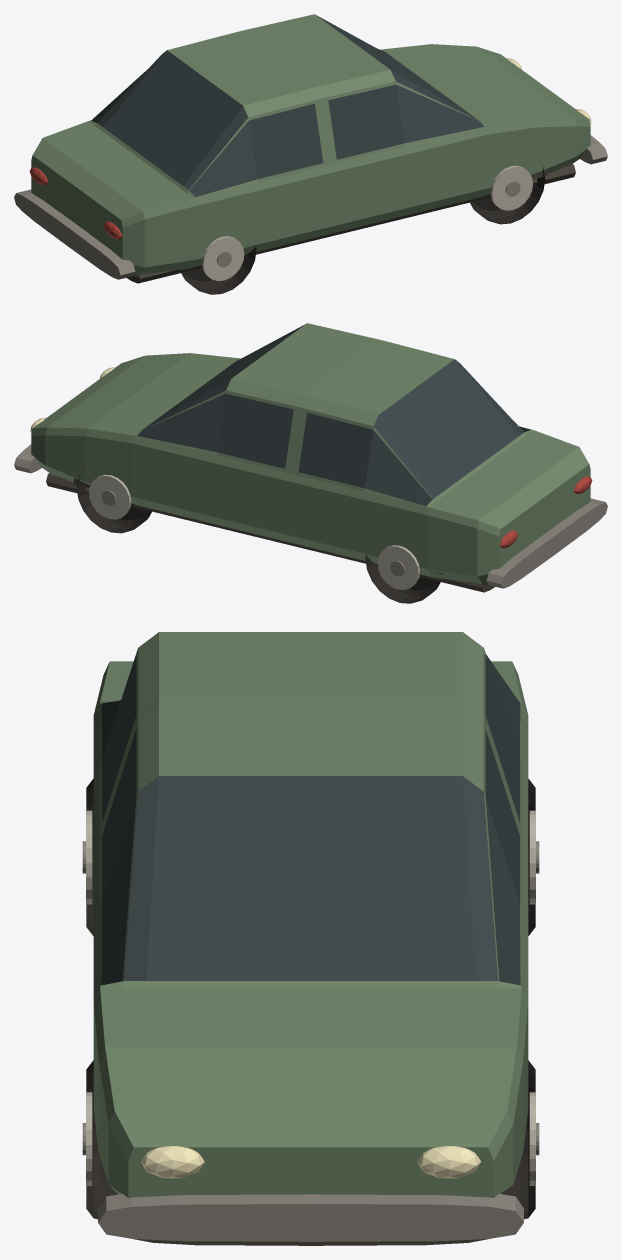
Rendered from sedan-zeytin.glb.
3 views of the same model, one above another, from view 1: azimuth 30°, elevation 25°; view 2: azimuth 150°, elevation 25°; view 3: azimuth 270°, elevation 25° (orthographic). The views are drawn at different scales.
Parts seen in each view (by area): view 1: a_zeytin, cam, tampon, jant, lastik, ic, stop; view 2: a_zeytin, cam, tampon, jant, lastik, ic, stop; view 3: a_zeytin, cam, tampon, lastik, far, jant, ic.
Part boxes in pixels (x1,y1,x2,y2): a_zeytin: (31, 14, 590, 276); cam: (91, 14, 484, 197); tampon: (14, 135, 607, 279); jant: (202, 165, 532, 280); lastik: (181, 159, 545, 294); ic: (126, 163, 575, 283); stop: (29, 167, 122, 239); a_zeytin: (31, 323, 590, 585); cam: (137, 323, 530, 506); tampon: (14, 444, 607, 588); jant: (89, 474, 419, 589); lastik: (76, 468, 440, 603); ic: (46, 472, 495, 592); stop: (499, 476, 592, 548); a_zeytin: (93, 632, 528, 1197); cam: (101, 654, 520, 985); tampon: (82, 841, 539, 1241); lastik: (86, 778, 535, 1219); far: (141, 1146, 480, 1178); jant: (86, 810, 535, 1185); ic: (104, 1172, 517, 1245).
Size of the model in its own units: 4.56 by 1.51 by 1.85.
